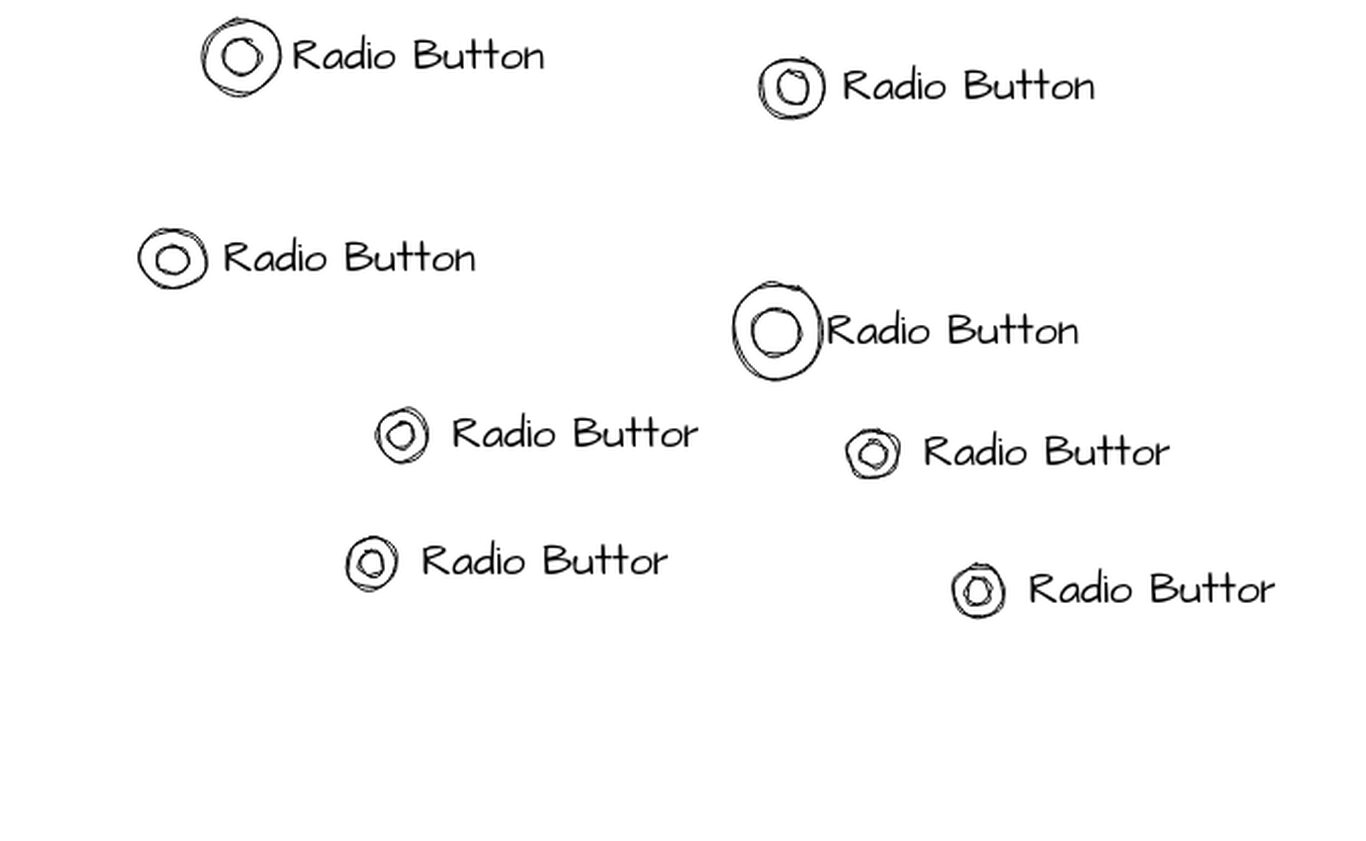Radio Button: (727, 280, 1084, 385), (197, 15, 549, 101), (134, 223, 479, 293), (754, 55, 1096, 123), (839, 420, 1174, 485), (949, 560, 1277, 623), (344, 530, 671, 593), (371, 405, 704, 466)
